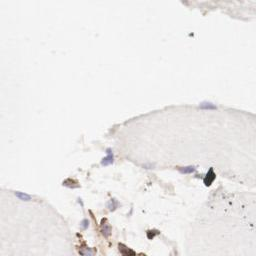nucleus: (100, 147, 115, 165), (177, 164, 197, 174), (200, 100, 219, 110), (14, 191, 31, 202), (104, 198, 121, 209), (81, 218, 90, 229), (104, 226, 111, 235), (76, 197, 83, 206), (67, 185, 80, 189), (86, 248, 91, 256)
positive_cell: (76, 238, 95, 256), (60, 176, 81, 191), (100, 218, 115, 239)
